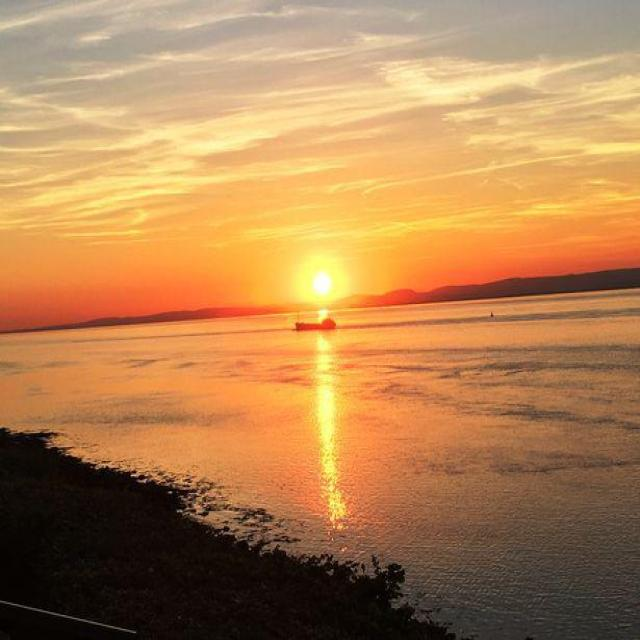other: (18, 269, 257, 315), (377, 232, 613, 274), (286, 249, 354, 326)
